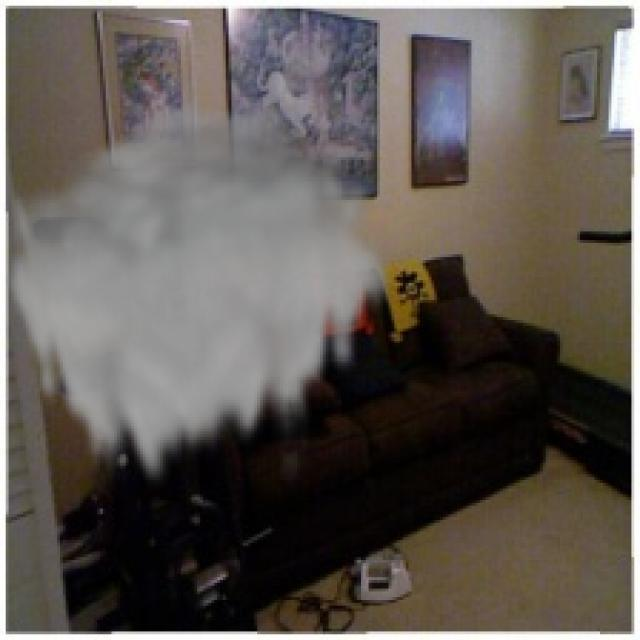Smoke: (2, 94, 398, 497)
